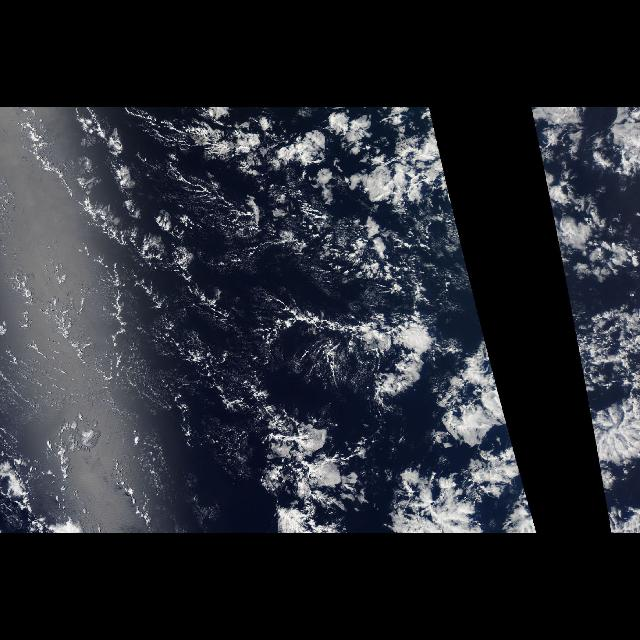Flower: (260, 308, 532, 514), (570, 308, 640, 514)
